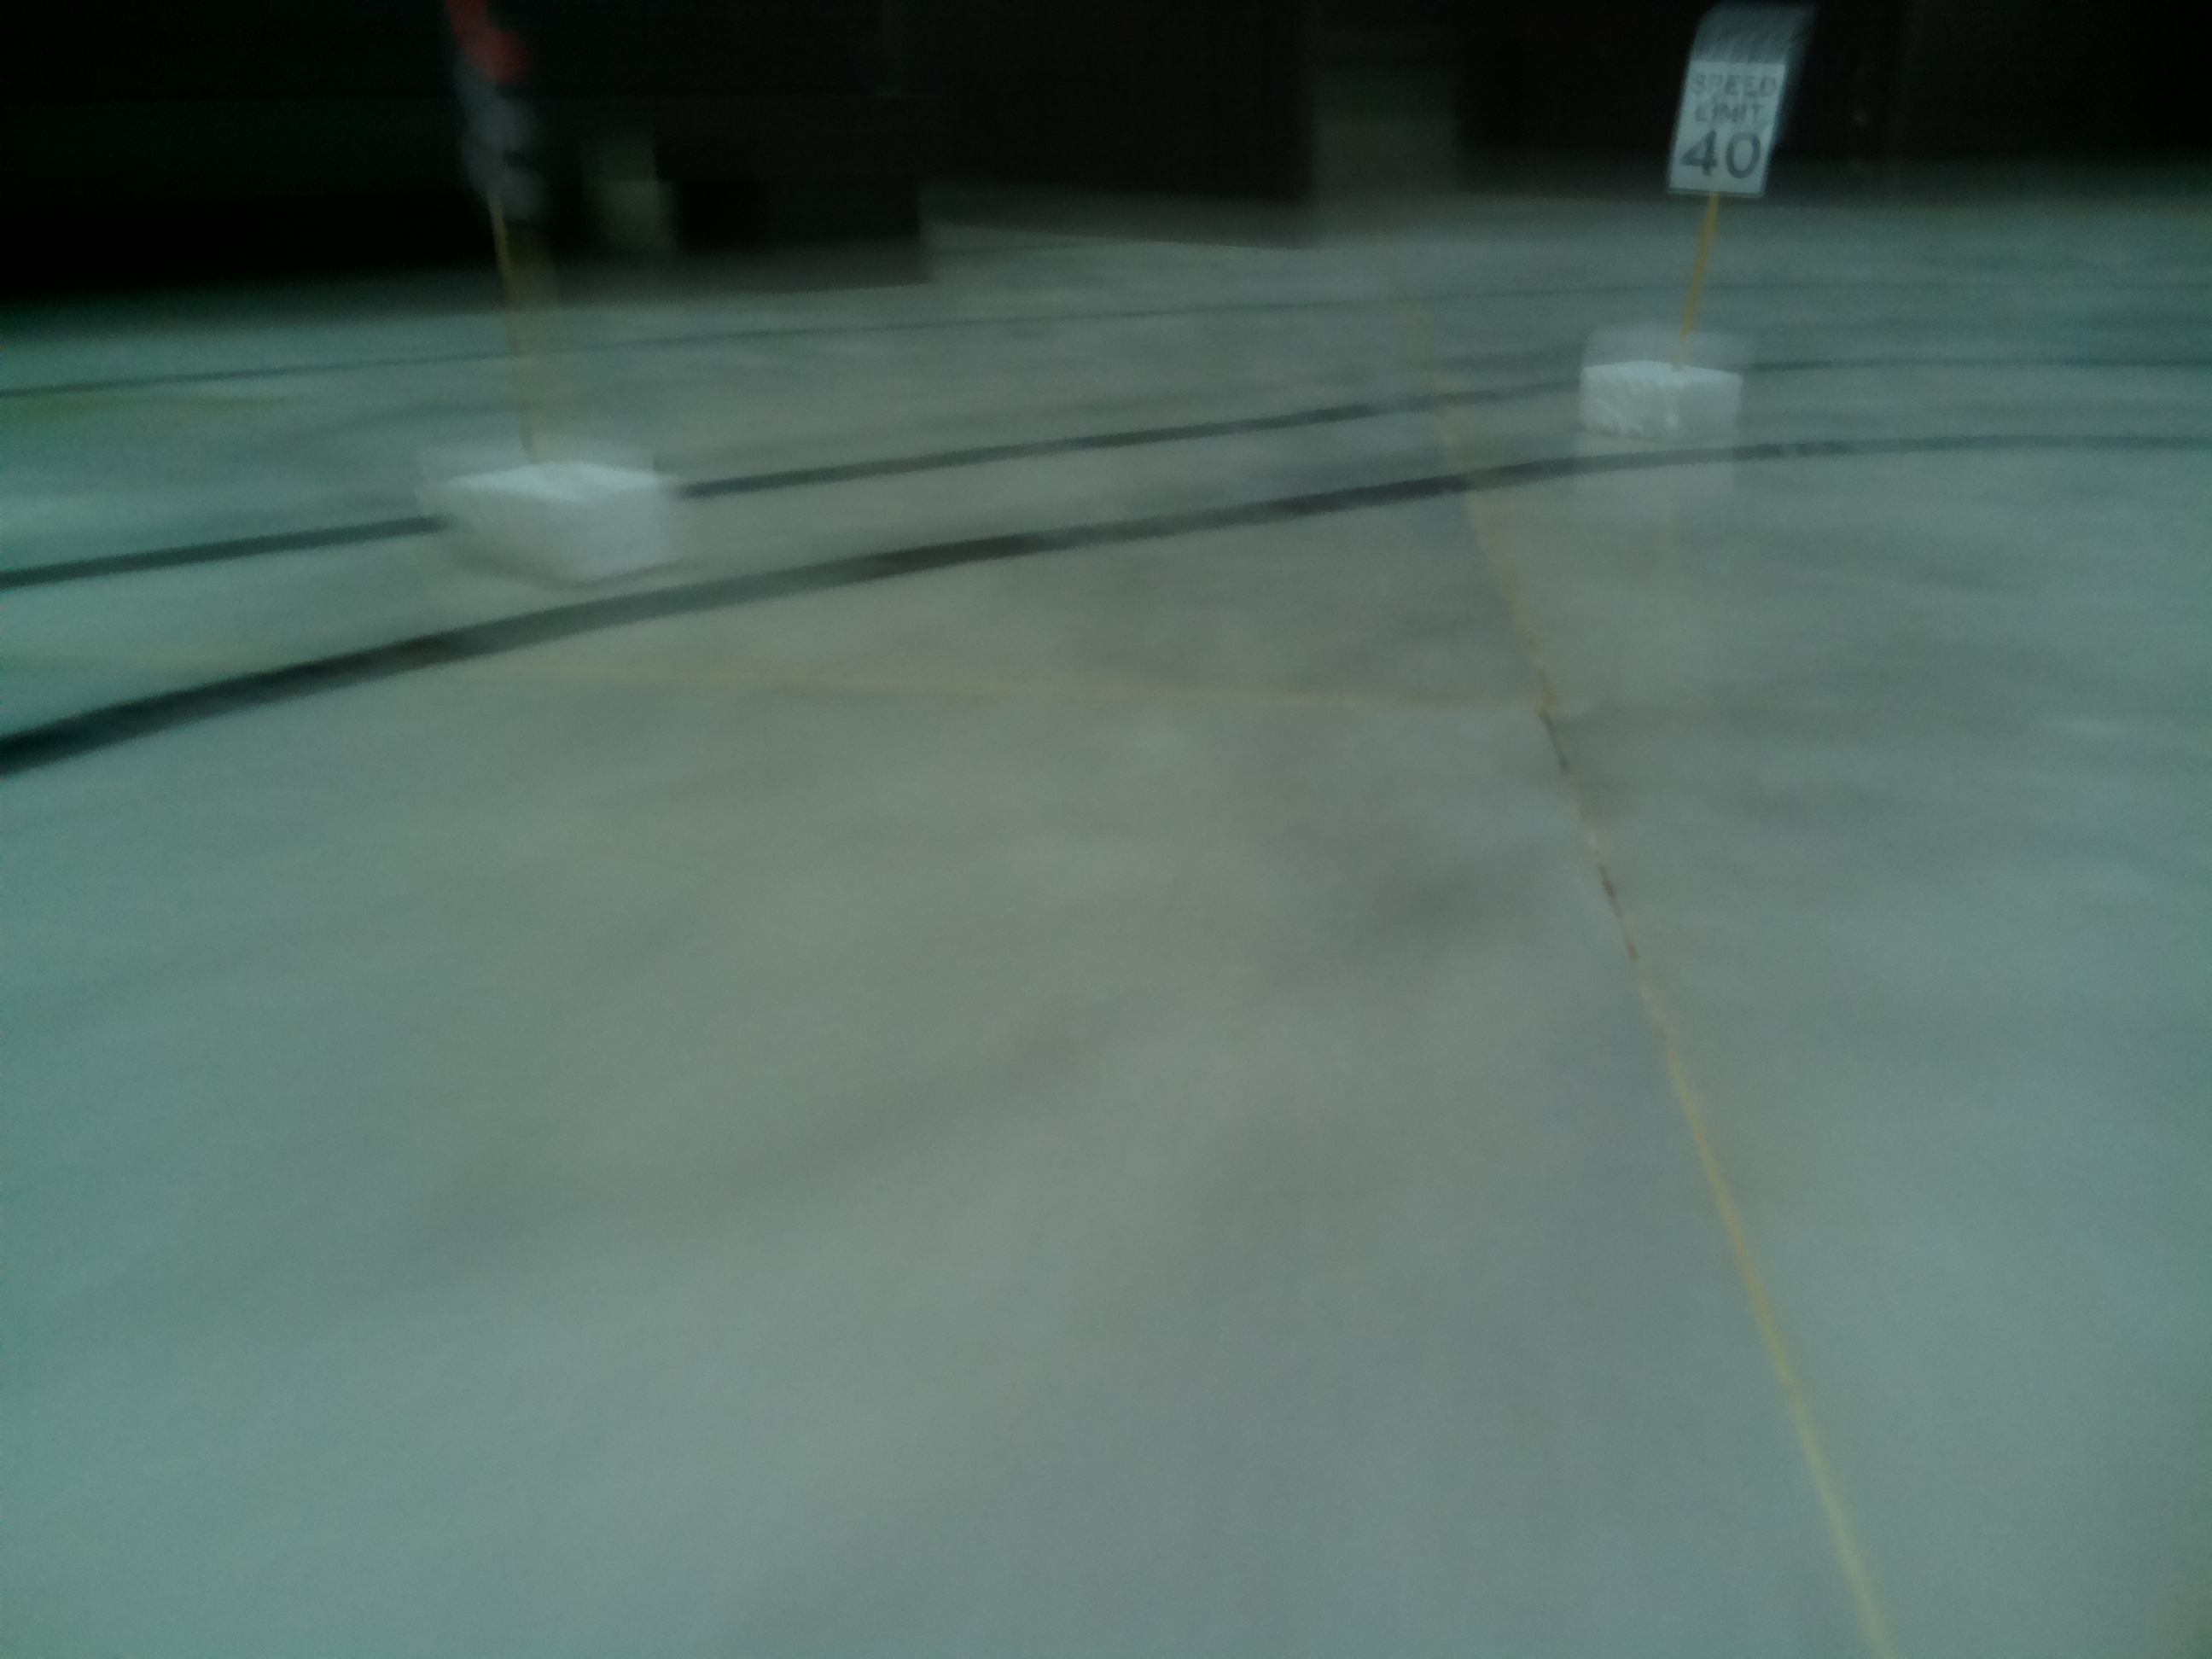Speed limit 40: (1670, 45, 1787, 213)
